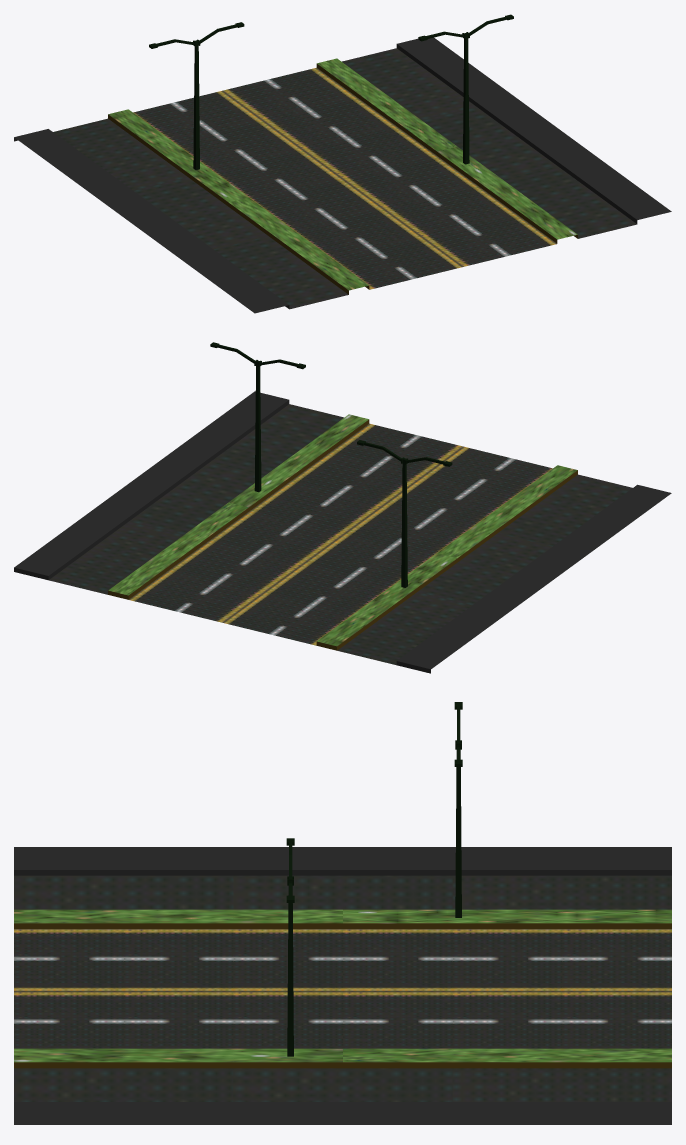
File: 02_main.obj
3 views of the same model, one above another, from view 1: azimuth 30°, elevation 25°; view 2: azimuth 150°, elevation 25°; view 3: azimuth 270°, elevation 25° (orthographic). The views are drawn at different scales.
Parts seen in each view (by area): view 1: 02_main_Plane.009; view 2: 02_main_Plane.009; view 3: 02_main_Plane.009.
Part boxes in pixels (x1=…): 02_main_Plane.009: x1=14, y1=14, x2=671, y2=313; 02_main_Plane.009: x1=14, y1=342, x2=671, y2=673; 02_main_Plane.009: x1=14, y1=702, x2=671, y2=1124.
Size of the model in its own units: 4.48 by 1.44 by 4.48.
